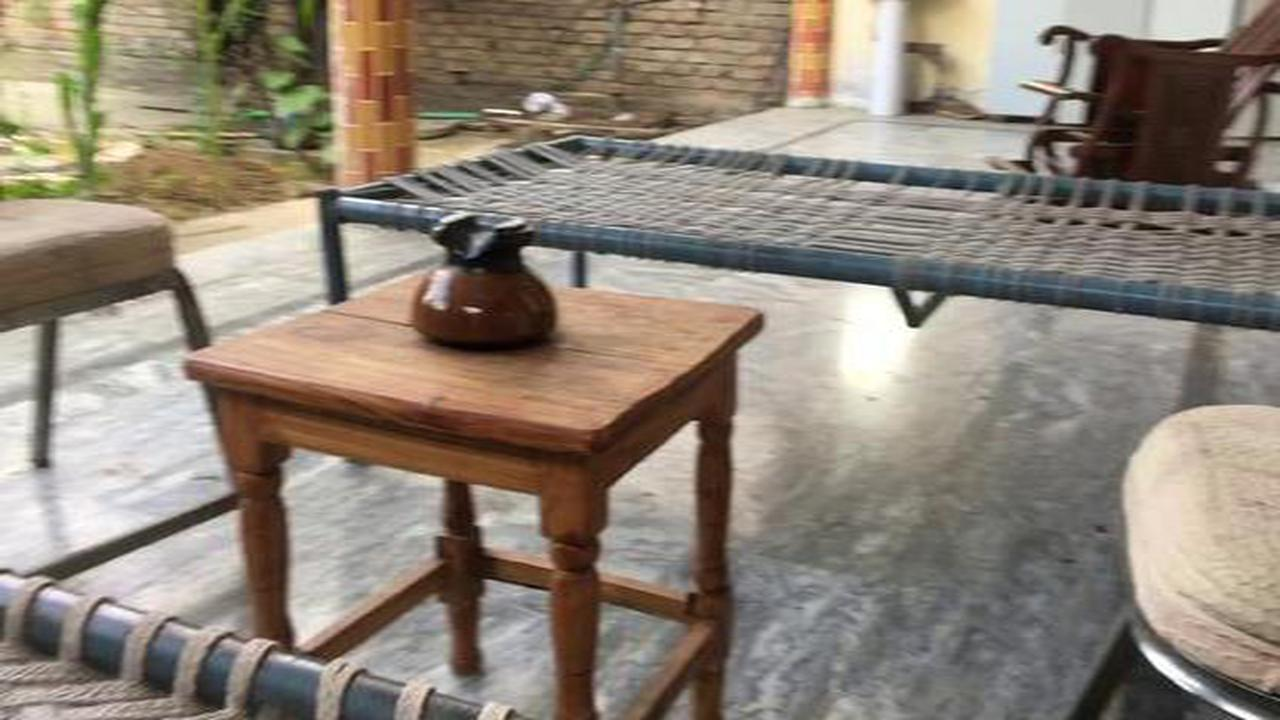insulator_pin: (388, 193, 585, 359)
